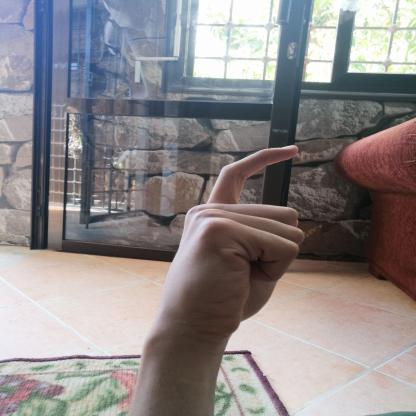RAA: (149, 132, 316, 349)
